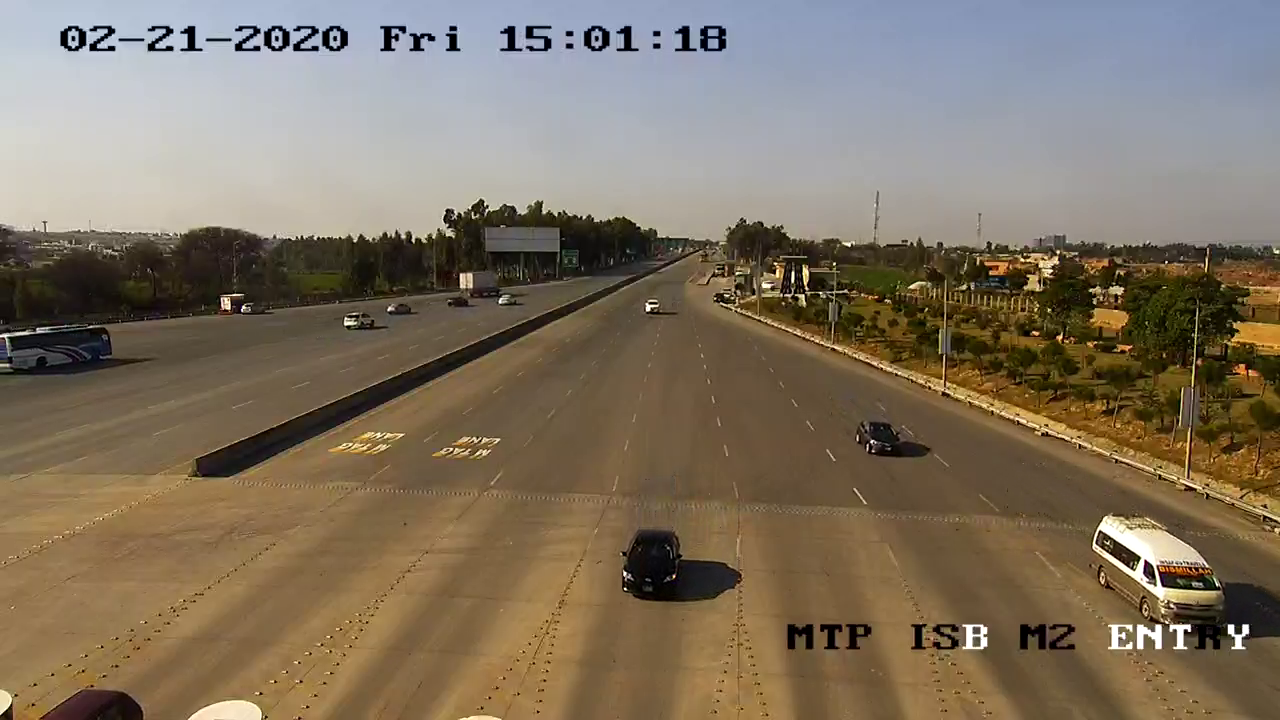f1: (604, 520, 696, 605), (843, 411, 915, 468)
f3: (1080, 503, 1243, 629)
